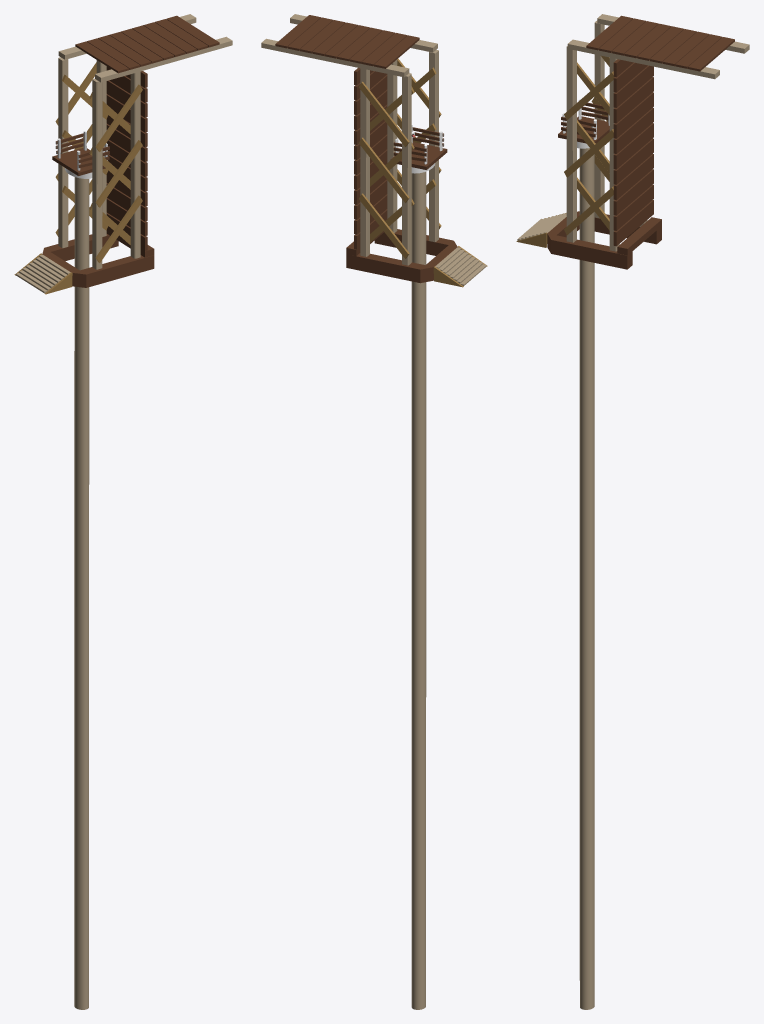
File: NewLift2.1.fbx
3 renders of one model, left to right at view 1: azimuth 30°, elevation 25°; view 2: azimuth 150°, elevation 25°; view 3: azimuth 330°, elevation 25°, orthographic. The views are drawn at different scales.
Visible parts, largest first — view 1: MainPillar, Pillars, Bridge, BaseWall, Xs, NewLift2_0, BridgeBeams, Stairs, Stage; view 2: MainPillar, Pillars, Bridge, Xs, BaseWall, NewLift2_0, BridgeBeams, Stairs, Stage; view 3: MainPillar, BaseWall, Bridge, Pillars, NewLift2_0, Xs, BridgeBeams.
Part boxes in pixels (<box>): MainPillar: <box>74,177,89,1009</box>; Pillars: <box>58,57,140,269</box>; Bridge: <box>75,15,219,73</box>; BaseWall: <box>106,66,147,250</box>; Xs: <box>55,62,142,262</box>; NewLift2_0: <box>42,228,154,287</box>; BridgeBeams: <box>58,14,232,82</box>; Stairs: <box>15,254,70,293</box>; Stage: <box>52,147,110,175</box>; MainPillar: <box>411,172,426,1009</box>; Pillars: <box>360,50,438,265</box>; Bridge: <box>275,15,419,68</box>; Xs: <box>359,58,441,258</box>; BaseWall: <box>354,68,387,249</box>; NewLift2_0: <box>346,229,457,283</box>; BridgeBeams: <box>261,14,437,77</box>; Stairs: <box>435,247,486,286</box>; Stage: <box>390,142,447,169</box>; MainPillar: <box>579,148,594,1009</box>; BaseWall: <box>613,59,653,246</box>; Bridge: <box>586,15,734,71</box>; Pillars: <box>566,20,647,251</box>; NewLift2_0: <box>547,211,661,269</box>; Xs: <box>564,55,614,235</box>; BridgeBeams: <box>567,14,749,79</box>.
Size of the model in its own units: 3041 by 14253 by 1198.
